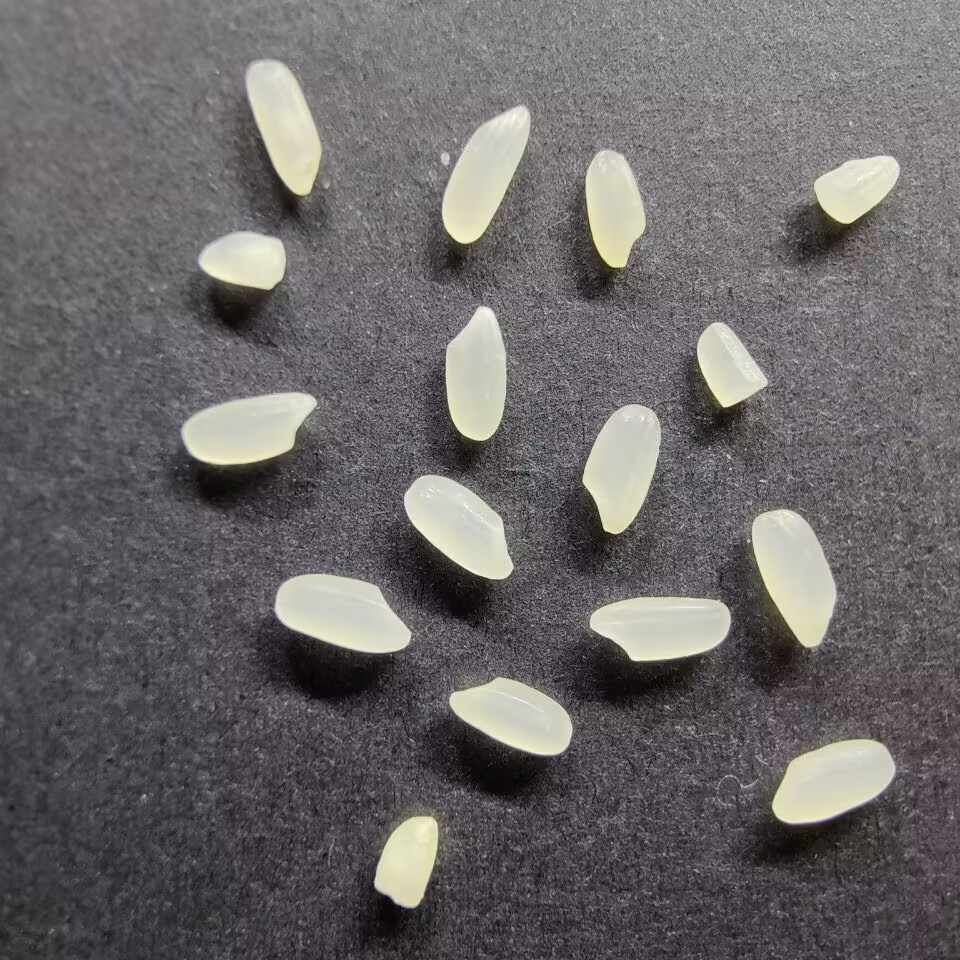broken: (695, 318, 770, 410), (810, 153, 902, 226), (373, 813, 439, 913), (195, 230, 288, 291)
rice: (439, 102, 533, 246), (401, 473, 517, 582), (751, 508, 840, 650), (768, 737, 900, 827), (272, 572, 415, 655), (242, 58, 323, 198), (579, 402, 663, 535), (178, 390, 321, 467), (446, 675, 576, 756), (586, 594, 733, 664), (441, 304, 509, 442), (583, 146, 648, 270)
